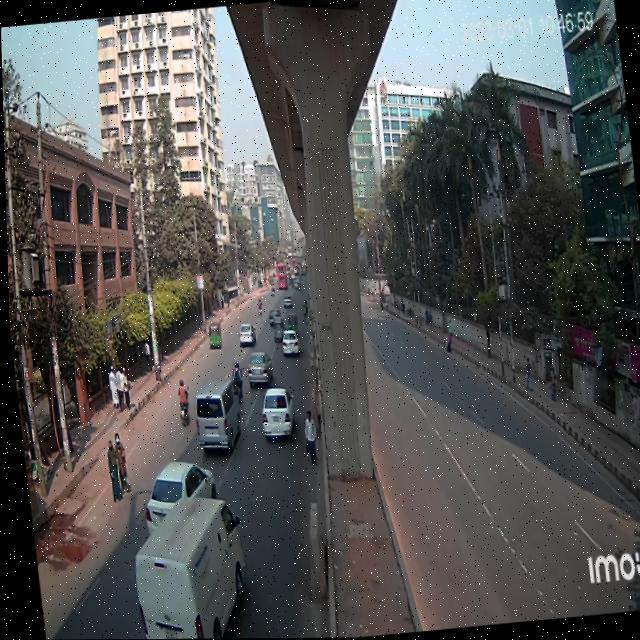cng: (201, 317, 226, 352), (282, 309, 301, 342), (267, 314, 285, 341)
